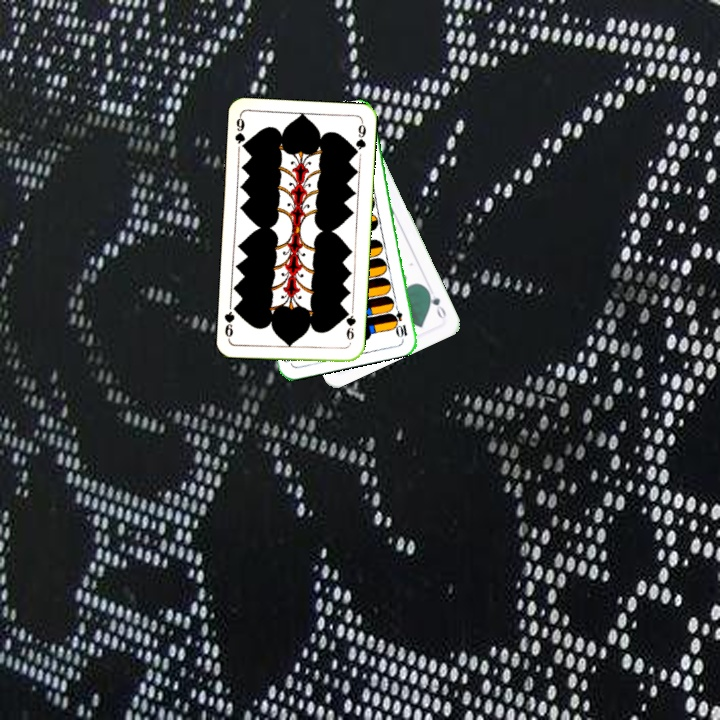E10: (391, 299, 410, 340)
G9: (231, 112, 250, 153), (342, 307, 358, 343)
GO: (422, 285, 449, 322)
